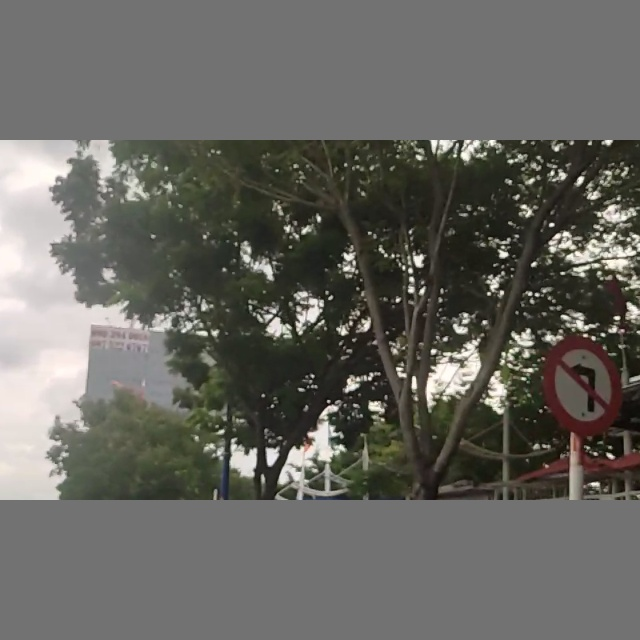P.123a: (542, 336, 619, 431)
